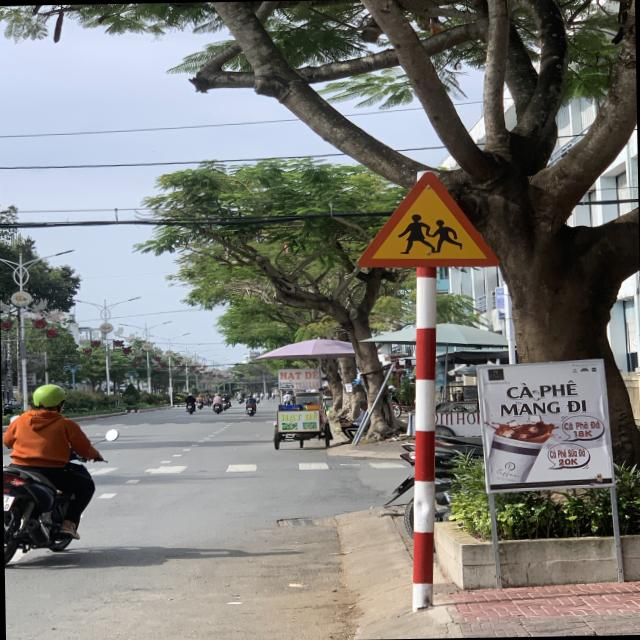Vong_Xuyen: (353, 172, 502, 270)
